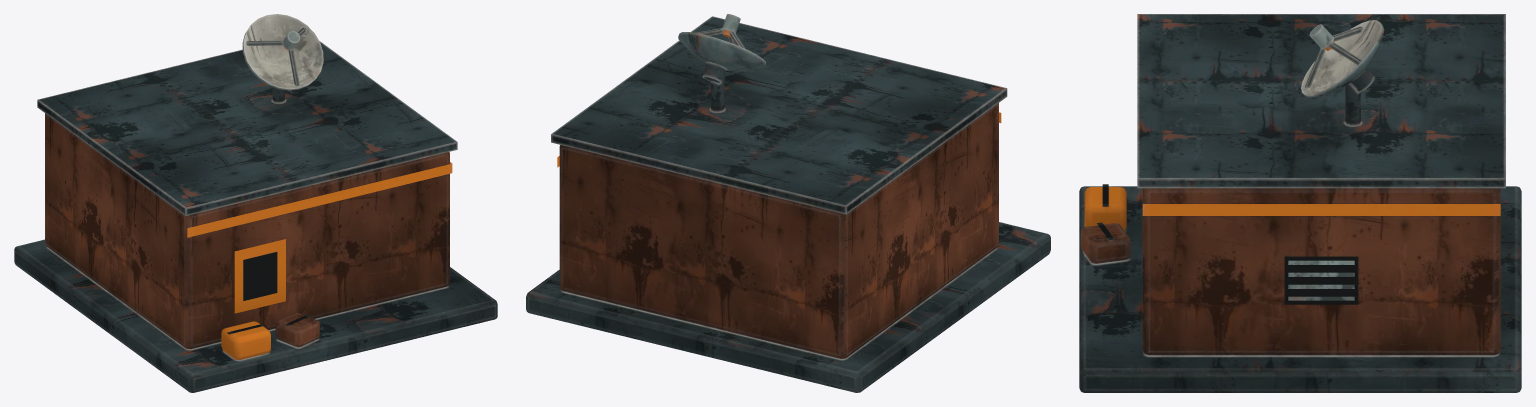
Rendered from trade_module.glb.
3 views of the same model, side by side, from view 1: azimuth 30°, elevation 25°; view 2: azimuth 150°, elevation 25°; view 3: azimuth 270°, elevation 25° (orthographic). The views are drawn at different scales.
Parts seen in each view (by area): view 1: te_trade_module, move_dish; view 2: te_trade_module, move_dish; view 3: te_trade_module, move_dish.
Part boxes in pixels (left/top/right/bottom): te_trade_module: left=14, top=41, right=497, bottom=392; move_dish: left=242, top=14, right=323, bottom=90; te_trade_module: left=526, top=16, right=1050, bottom=392; move_dish: left=678, top=14, right=765, bottom=83; te_trade_module: left=1079, top=14, right=1521, bottom=392; move_dish: left=1301, top=20, right=1384, bottom=98.
Size of the model in its own units: 0.84 by 0.6345 by 0.84.
1 material, 1 textured.
